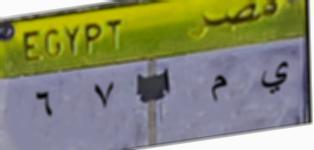6: (32, 87, 57, 123)
7: (92, 77, 116, 116)
alif: (157, 63, 177, 96)
meem: (204, 70, 233, 114)
yaa: (257, 59, 294, 100)
